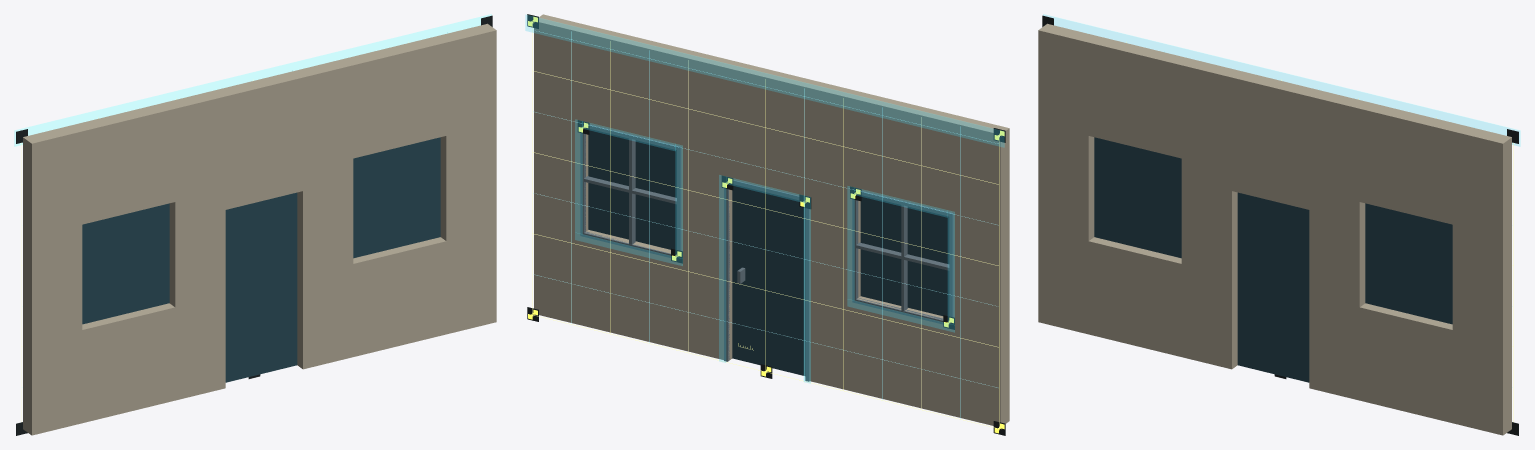
Rendered from alignment_test_facade.glb.
3 renders of one model, left to right at view 1: azimuth 30°, elevation 25°; view 2: azimuth 150°, elevation 25°; view 3: azimuth 330°, elevation 25°, orthographic.
Visible parts, largest first — view 1: REF_Wall, REF_Panels, OVERLAY_Cornice; view 2: REF_Wall, REF_Panels, REF_Frames, OVERLAY_Cornice, GRID_MajorAndVernier, OVERLAY_WindowRight, OVERLAY_WindowLeft, OVERLAY_Door, GRID_Minor, MARKERS_Dark, MARKERS_Lime; view 3: REF_Wall, REF_Panels, OVERLAY_Cornice.
Part boxes in pixels (left/top/right/bottom): REF_Wall: left=23, top=23, right=496, bottom=435; REF_Panels: left=82, top=137, right=440, bottom=382; OVERLAY_Cornice: left=14, top=14, right=491, bottom=146; REF_Wall: left=534, top=14, right=1009, bottom=425; REF_Panels: left=588, top=129, right=949, bottom=375; REF_Frames: left=580, top=124, right=953, bottom=381; OVERLAY_Cornice: left=525, top=15, right=1004, bottom=147; GRID_MajorAndVernier: left=532, top=22, right=999, bottom=428; OVERLAY_WindowRight: left=575, top=119, right=682, bottom=265; OVERLAY_WindowLeft: left=847, top=186, right=954, bottom=332; OVERLAY_Door: left=719, top=175, right=810, bottom=383; GRID_Minor: left=533, top=30, right=998, bottom=418; MARKERS_Dark: left=527, top=14, right=1005, bottom=435; MARKERS_Lime: left=528, top=16, right=1004, bottom=433; REF_Wall: left=1038, top=23, right=1511, bottom=435; REF_Panels: left=1094, top=137, right=1452, bottom=382; OVERLAY_Cornice: left=1043, top=14, right=1520, bottom=146.
Size of the model in its own units: 6.16 by 3.76 by 0.254.
